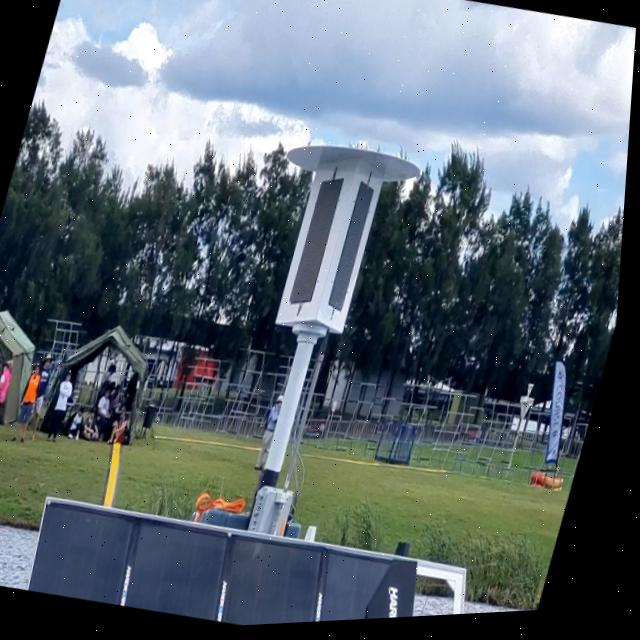led: (286, 166, 387, 327), (321, 169, 387, 324), (286, 175, 353, 316)
